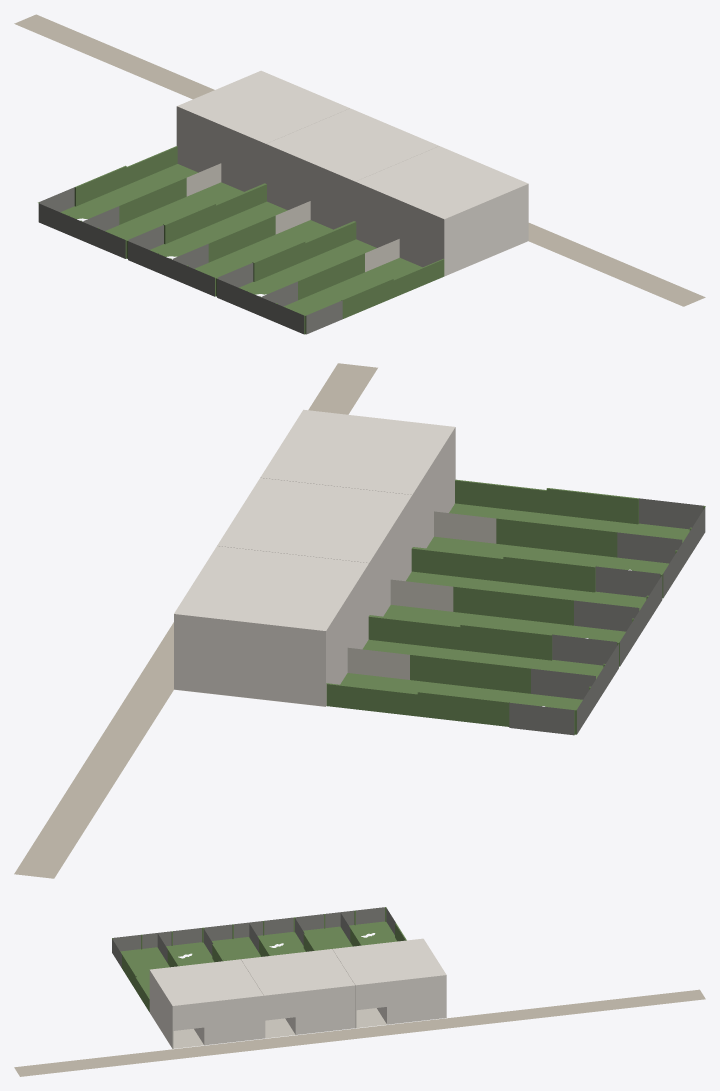
The picture shows the model from 3 angles, top to bottom: view 1: azimuth 30°, elevation 25°; view 2: azimuth 150°, elevation 25°; view 3: azimuth 270°, elevation 25°; orthographic projection. The views are drawn at different scales.
Parts seen in each view (by area): view 1: C2_edif, C0_edif, C1_edif, C2_seto, C0_seto, C1_seto, entorno_suelo, C0_malla, C2_malla, C1_malla, C1_cerco, C0_cerco (+1 smaller); view 2: C0_edif, C0_seto, C1_edif, C2_edif, C2_seto, C1_seto, entorno_suelo, C0_malla, C1_malla, C2_malla, C0_cerco, C1_cerco (+1 smaller); view 3: C2_edif, entorno_suelo, C1_edif, C0_edif, C2_seto, C1_seto, C0_seto, C0_malla, C1_malla, C2_malla, C2_cerco, C0_cerco (+1 smaller).
Boxes of the visible parts, bbox=[...] form: C2_edif: bbox=[355, 146, 528, 276]; C0_edif: bbox=[176, 70, 349, 191]; C1_edif: bbox=[266, 108, 438, 229]; C2_seto: bbox=[216, 221, 444, 334]; C0_seto: bbox=[38, 146, 265, 258]; C1_seto: bbox=[127, 184, 354, 296]; entorno_suelo: bbox=[14, 14, 705, 306]; C0_malla: bbox=[38, 187, 163, 258]; C2_malla: bbox=[217, 279, 342, 334]; C1_malla: bbox=[128, 241, 253, 296]; C1_cerco: bbox=[275, 201, 310, 234]; C0_cerco: bbox=[186, 163, 221, 196]; C0_edif: bbox=[174, 546, 369, 706]; C0_seto: bbox=[326, 616, 619, 734]; C1_edif: bbox=[217, 478, 412, 616]; C2_edif: bbox=[260, 409, 455, 548]; C2_seto: bbox=[412, 479, 705, 598]; C1_seto: bbox=[369, 547, 662, 666]; entorno_suelo: bbox=[14, 363, 377, 878]; C0_malla: bbox=[509, 634, 618, 735]; C1_malla: bbox=[574, 566, 662, 666]; C2_malla: bbox=[617, 498, 705, 597]; C0_cerco: bbox=[175, 647, 409, 706]; C1_cerco: bbox=[390, 579, 453, 611]; C2_edif: bbox=[149, 959, 263, 1048]; entorno_suelo: bbox=[14, 989, 705, 1076]; C1_edif: bbox=[241, 949, 355, 1038]; C0_edif: bbox=[332, 938, 446, 1028]; C2_seto: bbox=[112, 927, 223, 1011]; C1_seto: bbox=[203, 917, 315, 960]; C0_seto: bbox=[295, 907, 406, 950]; C0_malla: bbox=[295, 907, 395, 945]; C1_malla: bbox=[203, 917, 293, 955]; C2_malla: bbox=[112, 928, 201, 967]; C2_cerco: bbox=[164, 1028, 203, 1048]; C0_cerco: bbox=[356, 1008, 386, 1027].
Size of the model in its own units: 46.58 by 6.05 by 87.73.
